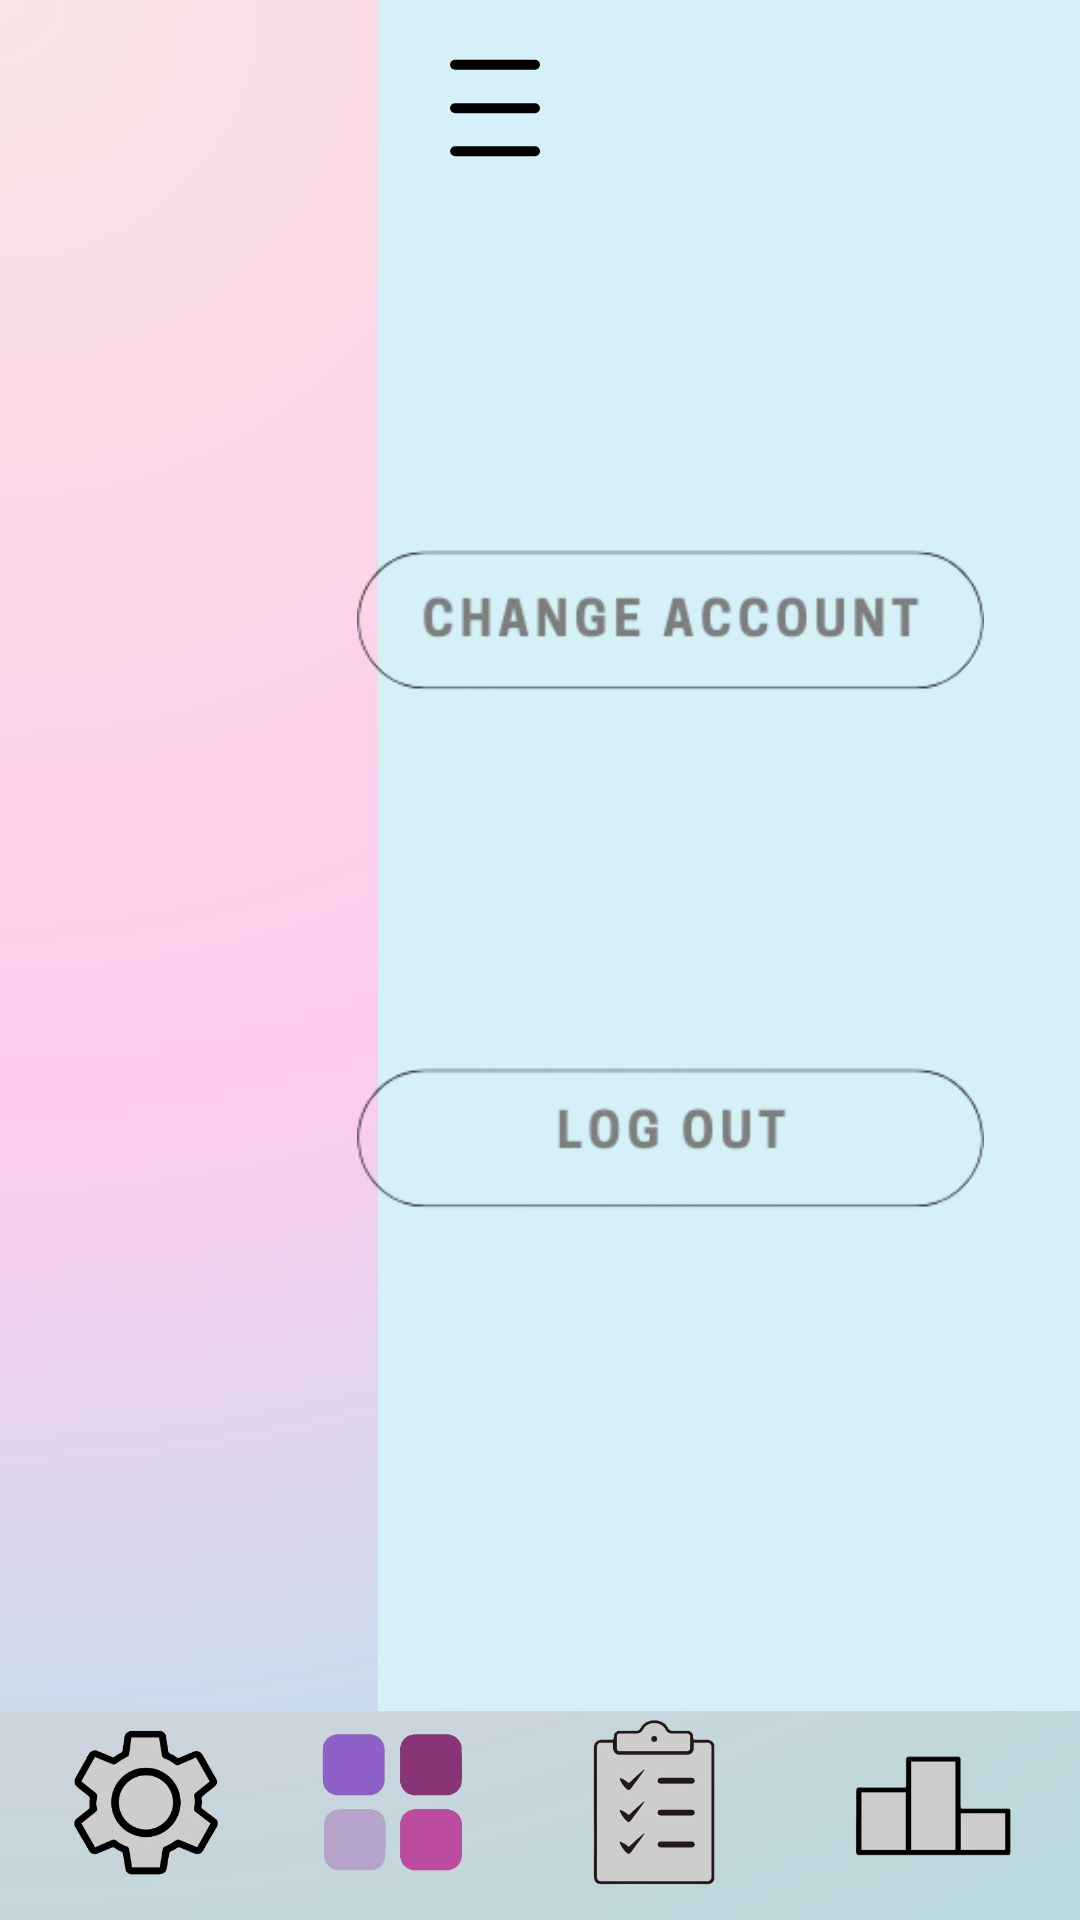

Named icons in this screenshot (1080px x 1920px) and their centers, [x,y]:
apps: [392,1802]
leaderboards: [933,1806]
settings: [146,1802]
tasks: [654,1802]
